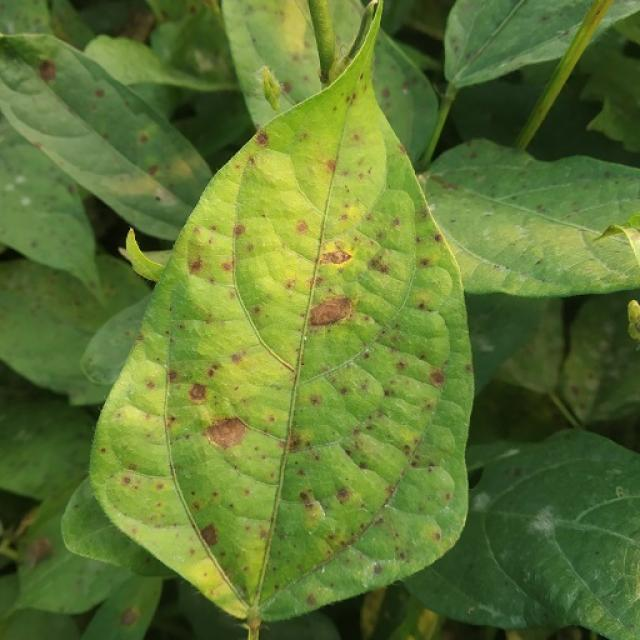Anthracnose: (304, 288, 356, 340), (203, 416, 248, 449), (24, 536, 53, 568), (261, 67, 282, 111), (320, 239, 355, 264), (626, 300, 640, 341), (199, 523, 218, 546), (120, 606, 140, 627), (39, 60, 57, 83), (369, 255, 391, 273), (188, 383, 207, 402), (244, 613, 261, 634), (299, 491, 316, 510), (289, 436, 306, 453), (430, 369, 445, 386), (188, 256, 203, 273), (336, 487, 351, 502), (255, 130, 269, 146), (295, 221, 308, 234), (325, 159, 337, 173), (233, 223, 245, 236), (147, 164, 159, 177), (167, 370, 179, 382), (310, 394, 322, 405), (139, 132, 150, 144), (396, 360, 408, 371), (419, 258, 432, 268), (231, 352, 242, 363), (285, 279, 296, 289), (307, 594, 316, 606), (95, 88, 105, 98), (222, 262, 232, 272), (433, 233, 443, 243), (373, 564, 383, 574), (122, 475, 131, 485), (392, 218, 401, 227), (146, 381, 155, 389), (128, 463, 137, 471), (418, 302, 426, 310)
Blackgram: (89, 8, 472, 636)
